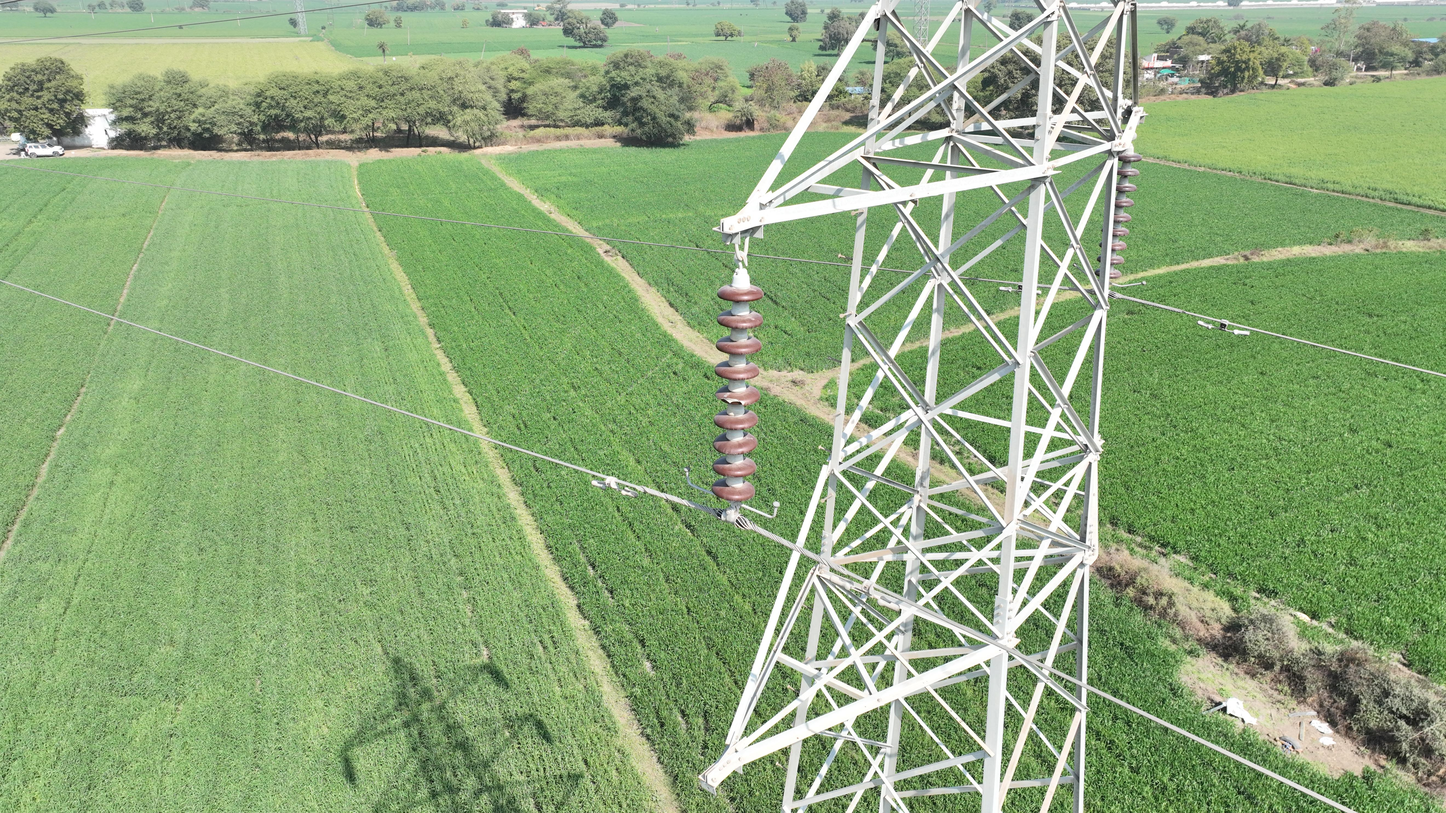broken_insulator: (710, 382, 764, 410)
